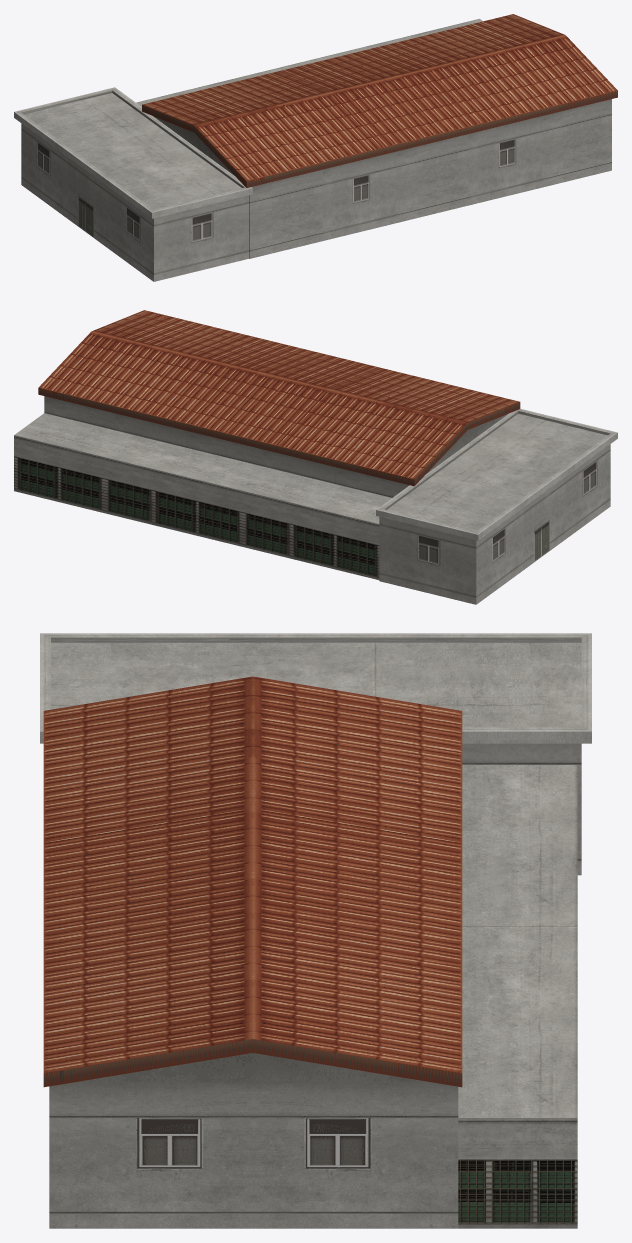
File: workshop_03.obj
3 views of the same model, one above another, from view 1: azimuth 30°, elevation 25°; view 2: azimuth 150°, elevation 25°; view 3: azimuth 270°, elevation 25° (orthographic). The views are drawn at different scales.
Visible parts, largest first — view 1: Box073; view 2: Box073; view 3: Box073.
Boxes of the visible parts, x1,y1,x2,y2 form: Box073: (14, 14, 617, 281); Box073: (14, 310, 617, 604); Box073: (40, 633, 591, 1228).
Size of the model in its own units: 79.86 by 15.88 by 40.9.
